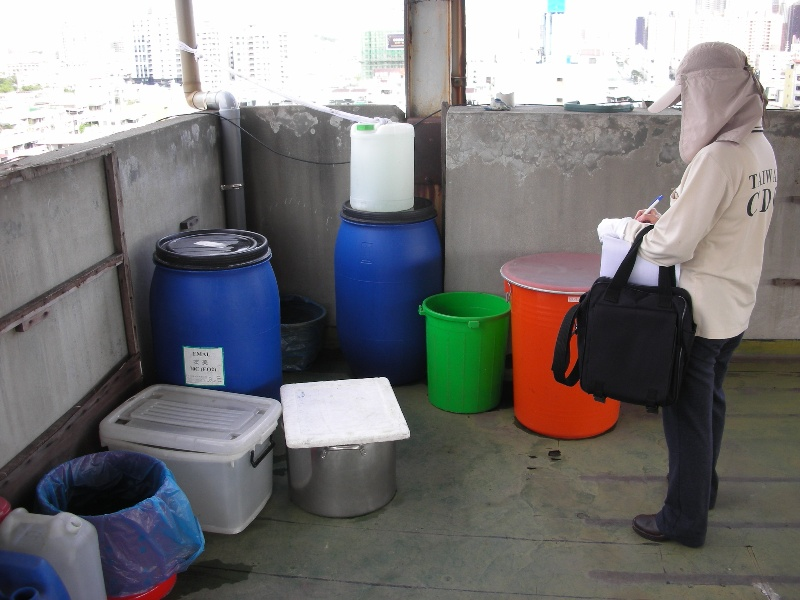bowl: (287, 442, 401, 520)
box: (95, 419, 282, 534)
bucket: (500, 253, 620, 440), (330, 197, 445, 389), (34, 453, 183, 597), (145, 261, 279, 407), (417, 287, 511, 415), (348, 119, 416, 215)
plate: (98, 380, 283, 456), (151, 228, 274, 272)
